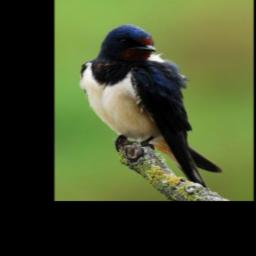Swallow: (79, 23, 224, 190)
